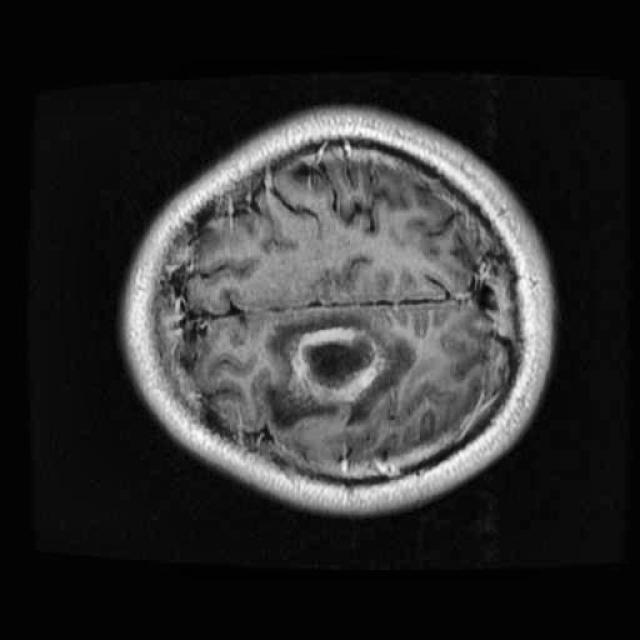Tumor: (250, 298, 430, 441)
